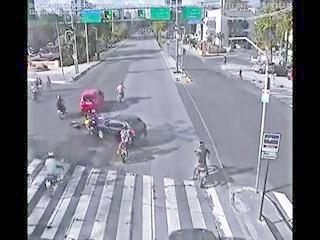Car: (86, 114, 147, 144), (80, 89, 104, 113), (253, 62, 275, 74)
Minor Accident: (73, 108, 152, 151)
Motor: (44, 152, 65, 194), (116, 127, 134, 163), (193, 143, 210, 180), (84, 115, 102, 138), (30, 86, 43, 102), (56, 105, 66, 120), (116, 89, 125, 102)
